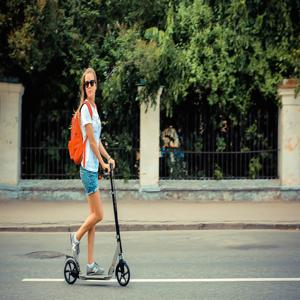human on a scooter: (62, 67, 131, 287)
